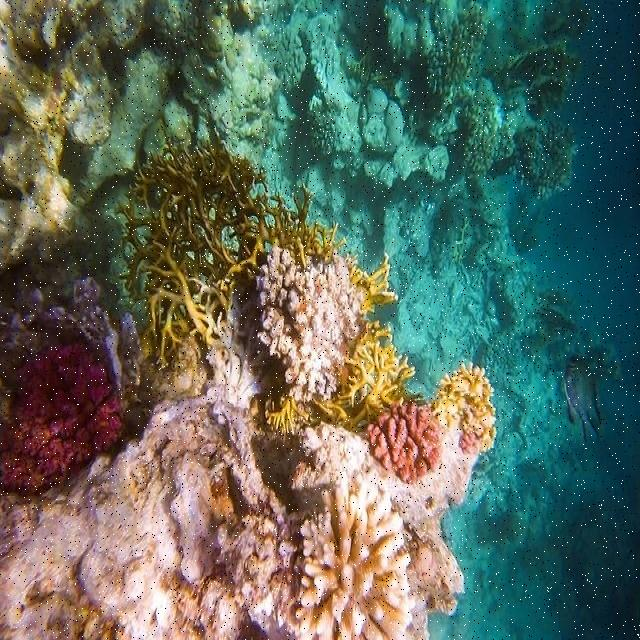fish: (563, 356, 602, 445)
reefs: (114, 126, 347, 371), (263, 250, 417, 441), (292, 468, 417, 639), (0, 338, 122, 494), (254, 246, 366, 402), (431, 362, 498, 455), (365, 401, 441, 481)
